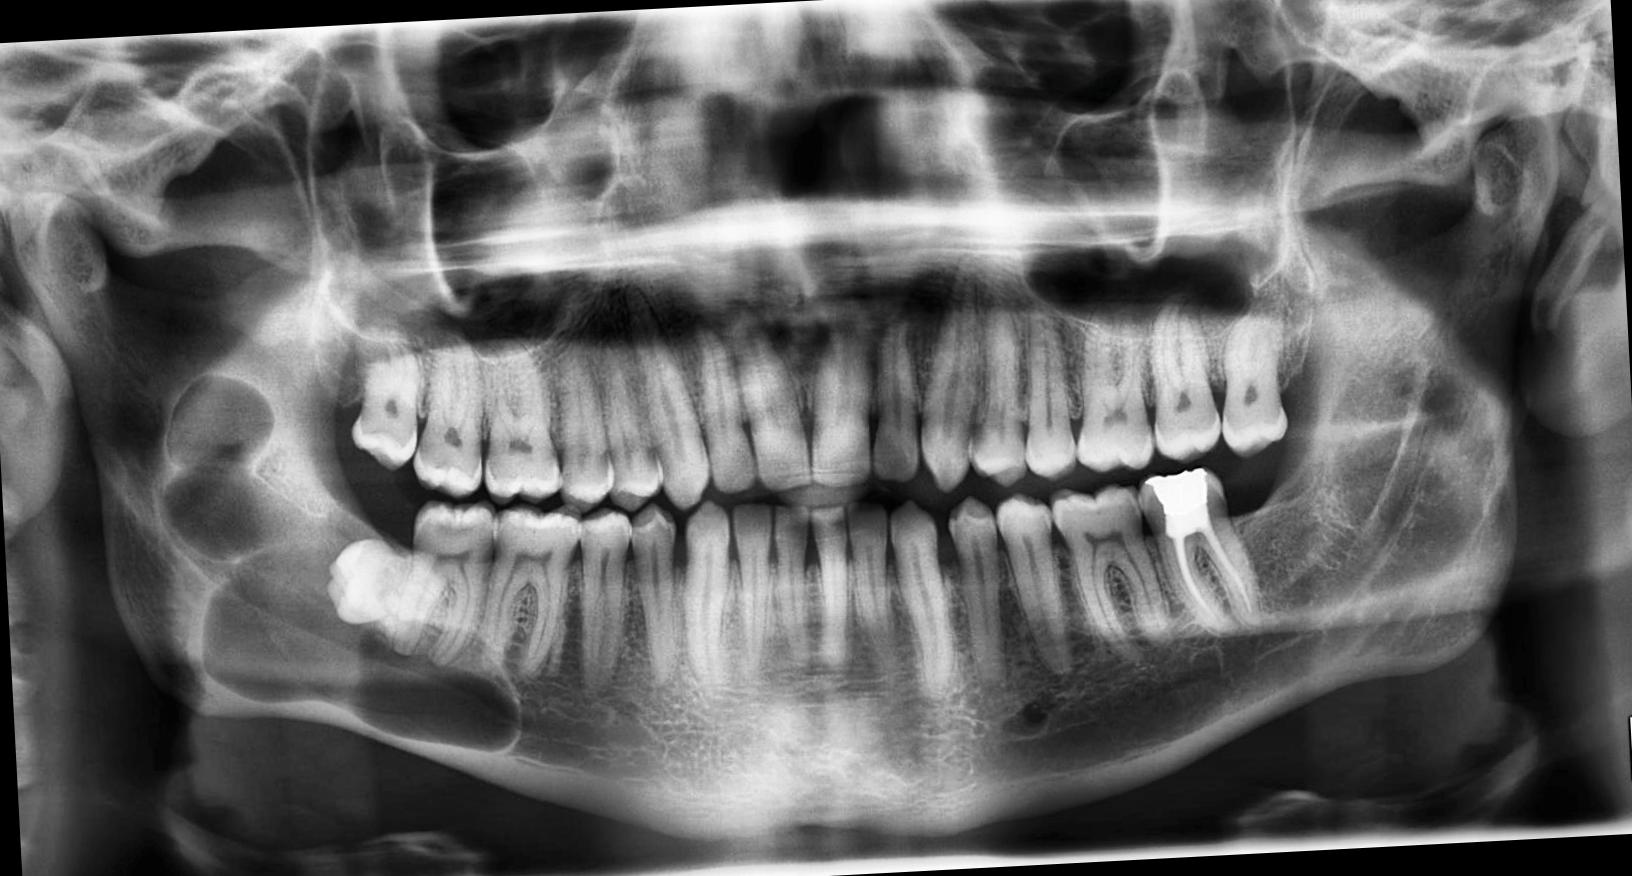keratokist: (154, 357, 522, 770)
